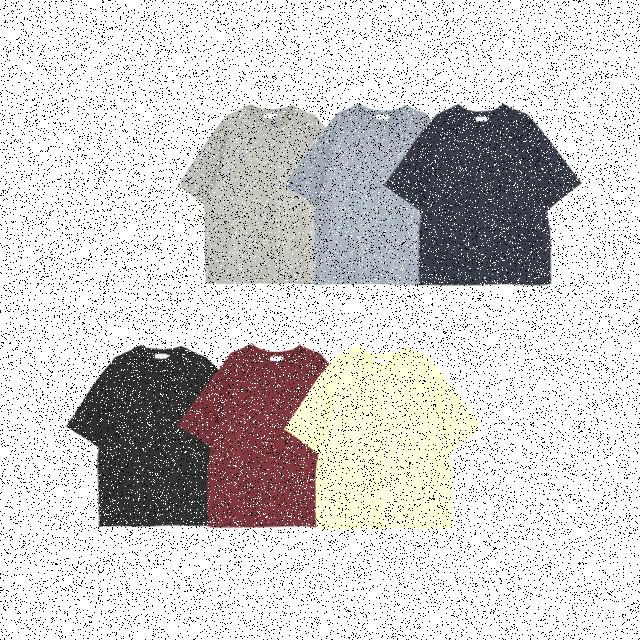Blouse_deep: (384, 105, 579, 279), (296, 348, 467, 520), (67, 344, 226, 516), (76, 106, 220, 292)
